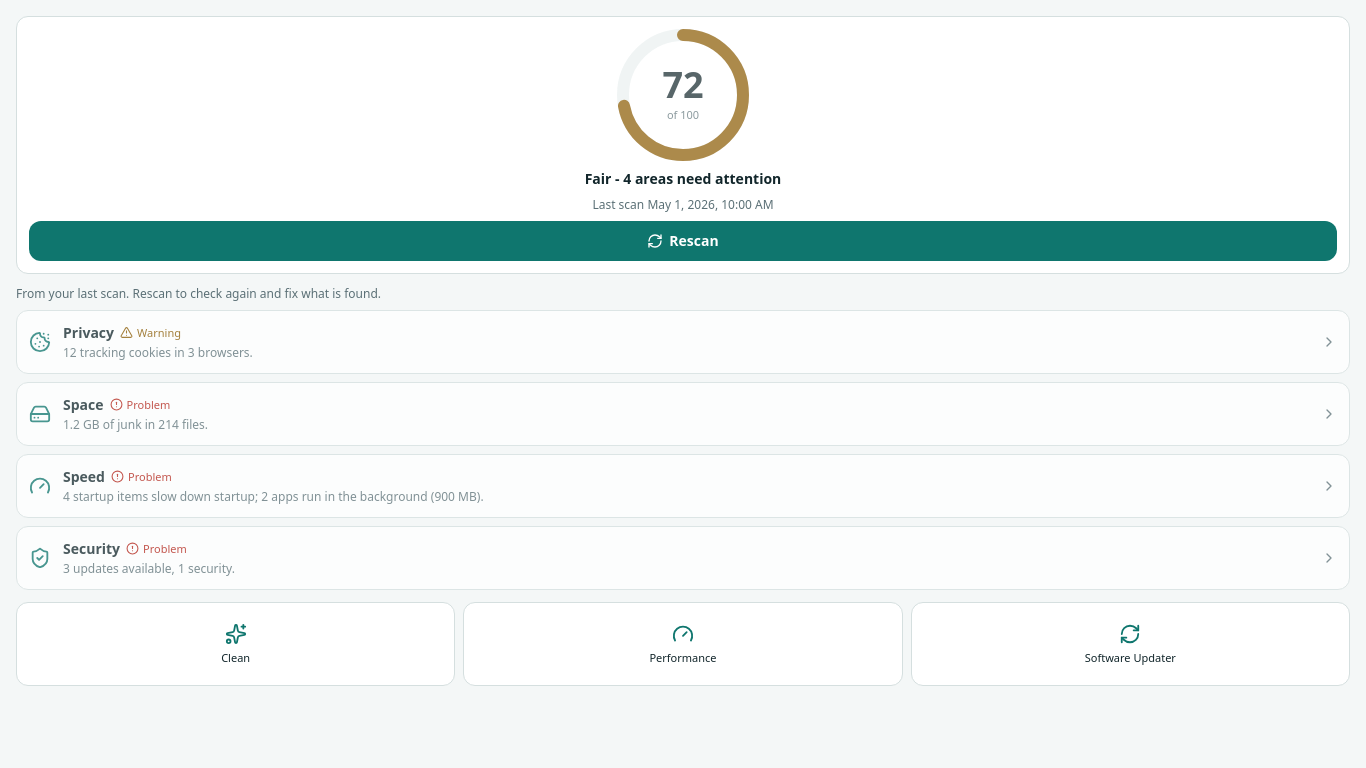
Scenario: Home: scanning › shows progress with a cancel button and keeps what was shown before
The width and height of the screenshot is (1366, 768).
Click the button with test id "btn-scan" at [683, 241], box [29,221,1337,261]
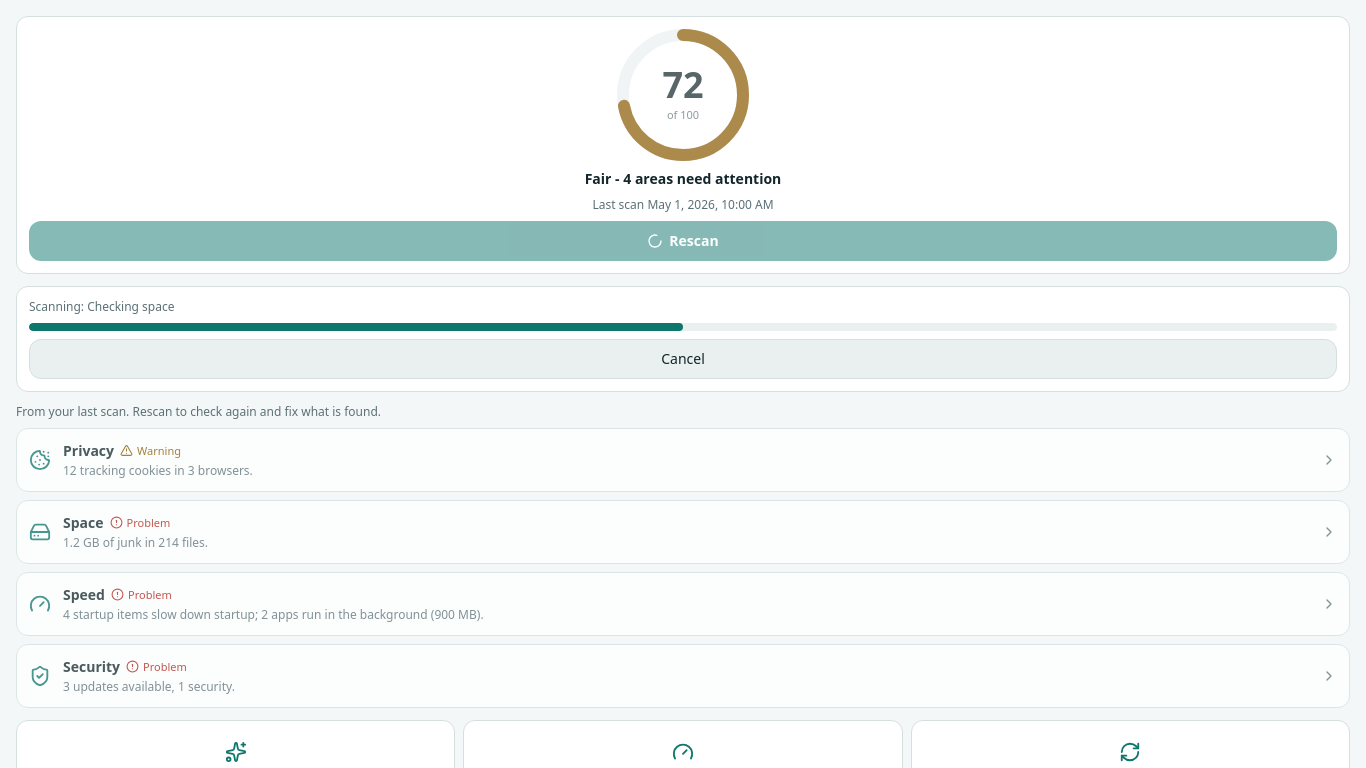
Expected: the text with test id "health-progress-message" shows "Checking space", [81,298,174,315]
Expected: the button with test id "btn-scan" is disabled, [29,221,1337,261]
Click the button with test id "btn-cancel" at [683, 359], box [29,339,1337,379]
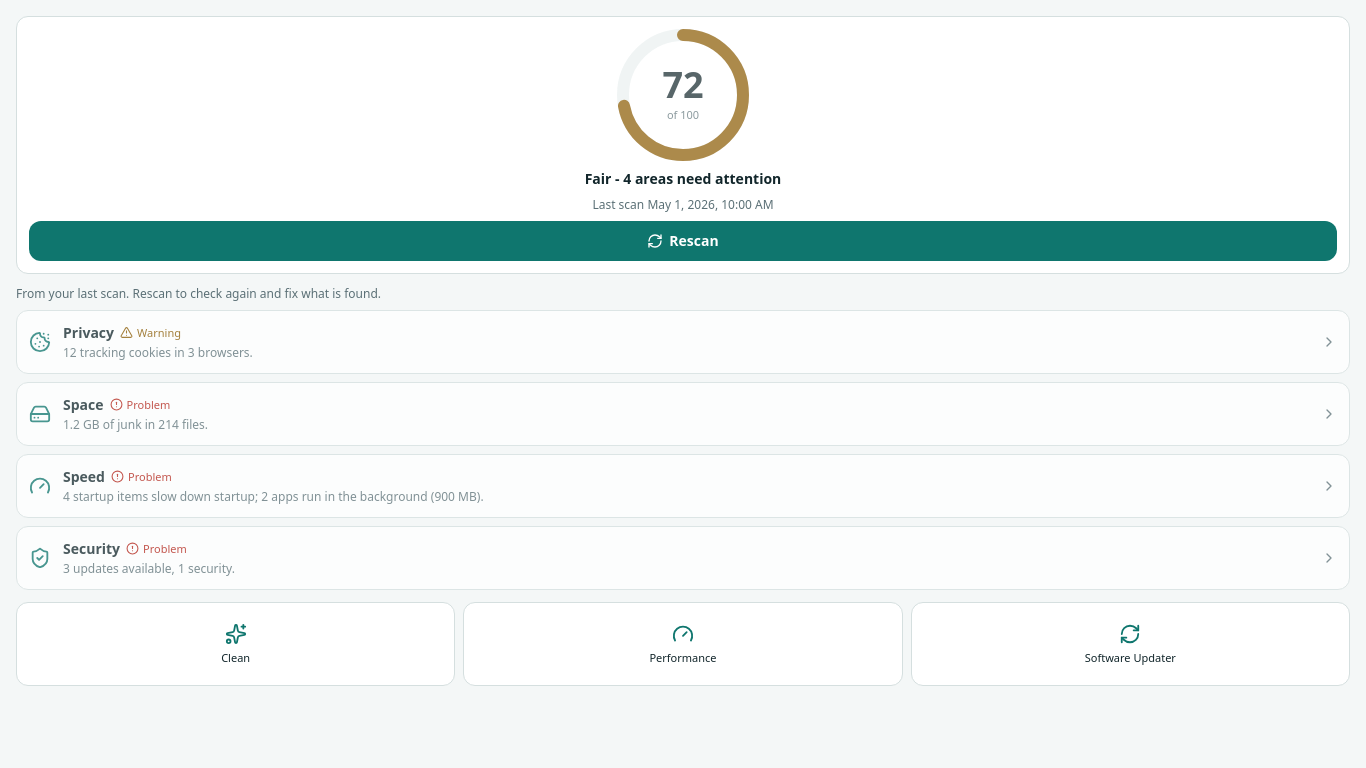
Expected: the picture named "Health score 72 of 100" is shown, [617,29,749,161]
Expected: the element with test id "health-progress" is gone
Expected: the button with test id "btn-scan" is enabled, [29,221,1337,261]
